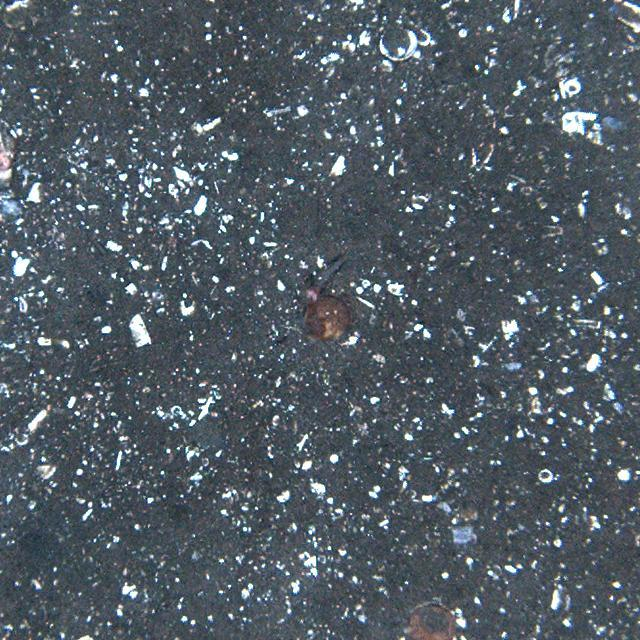scallop: (302, 289, 352, 343), (403, 600, 458, 640)
